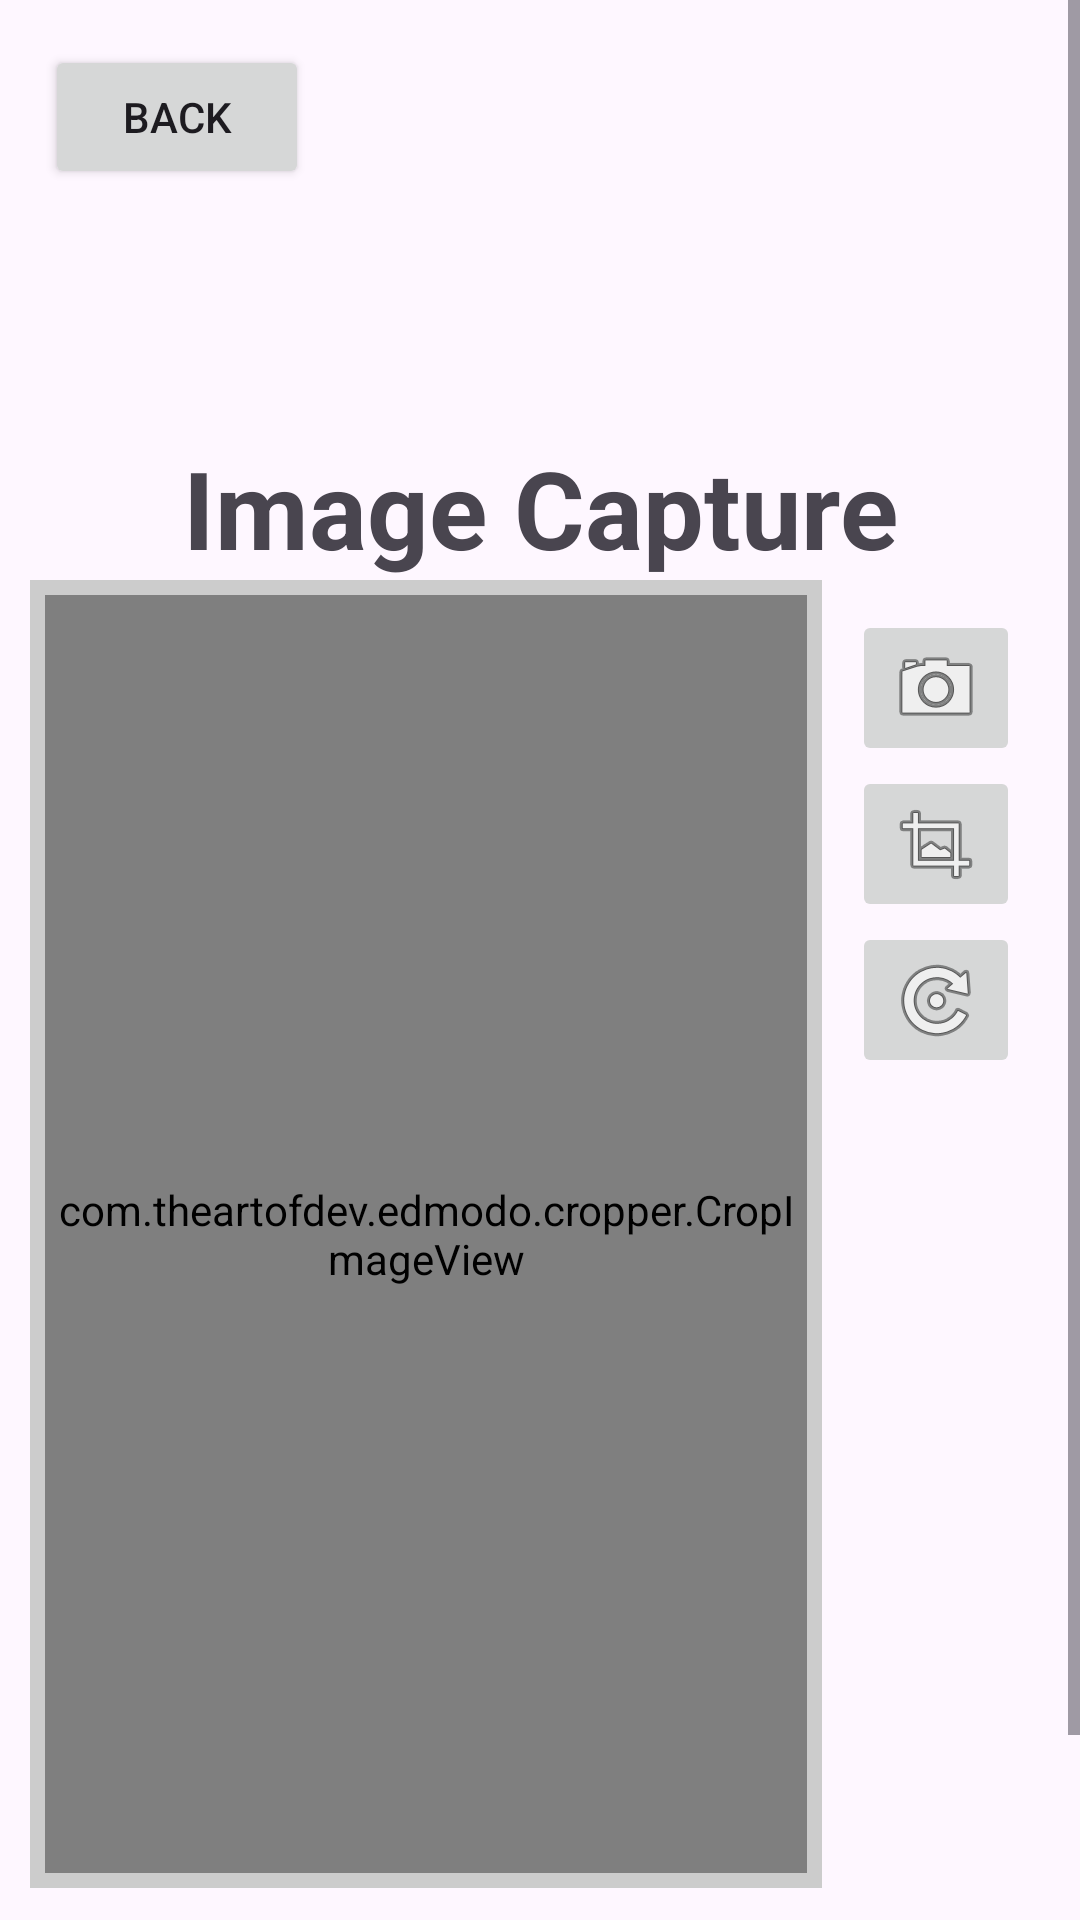

Where to tap for icons on this 1080×1920 app screen, as point (x, y):
camera: point (936, 688)
rotate: point (936, 1000)
